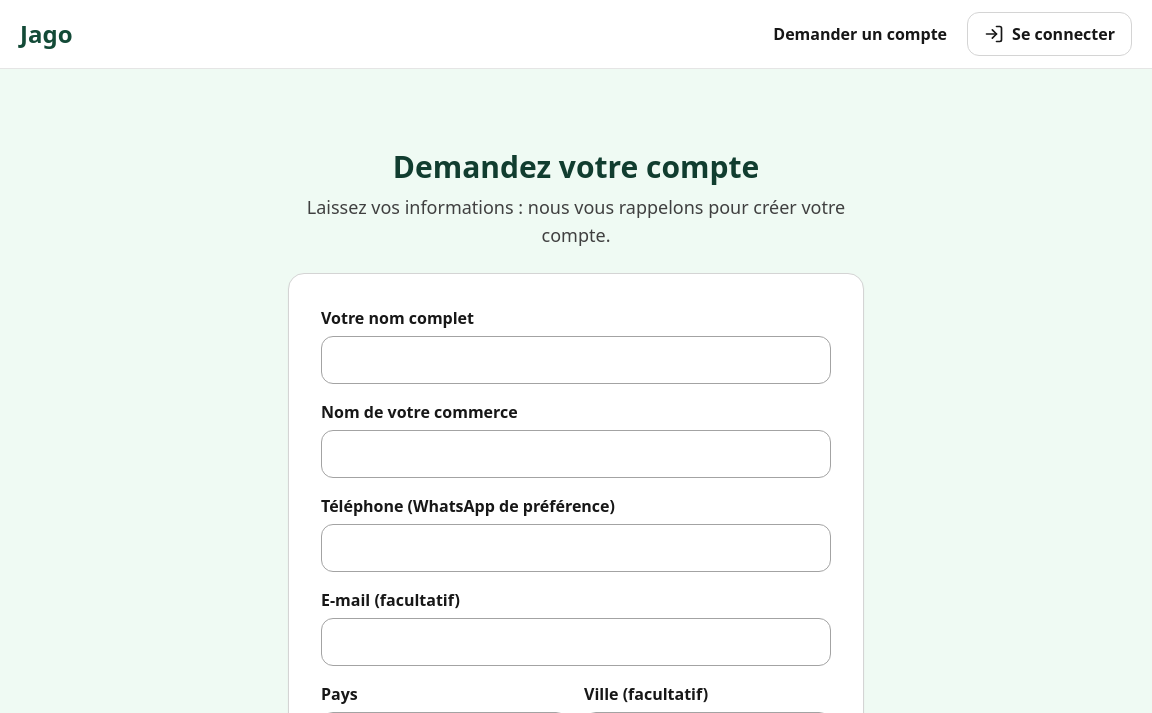
page d’accueil › envoie la demande (sans jeton) avec le champ piège vide, puis remercie
(page scrolled)
In the field labelled "Votre nom complet": (576, 360) [321,336,831,384], type "Awa Traoré"
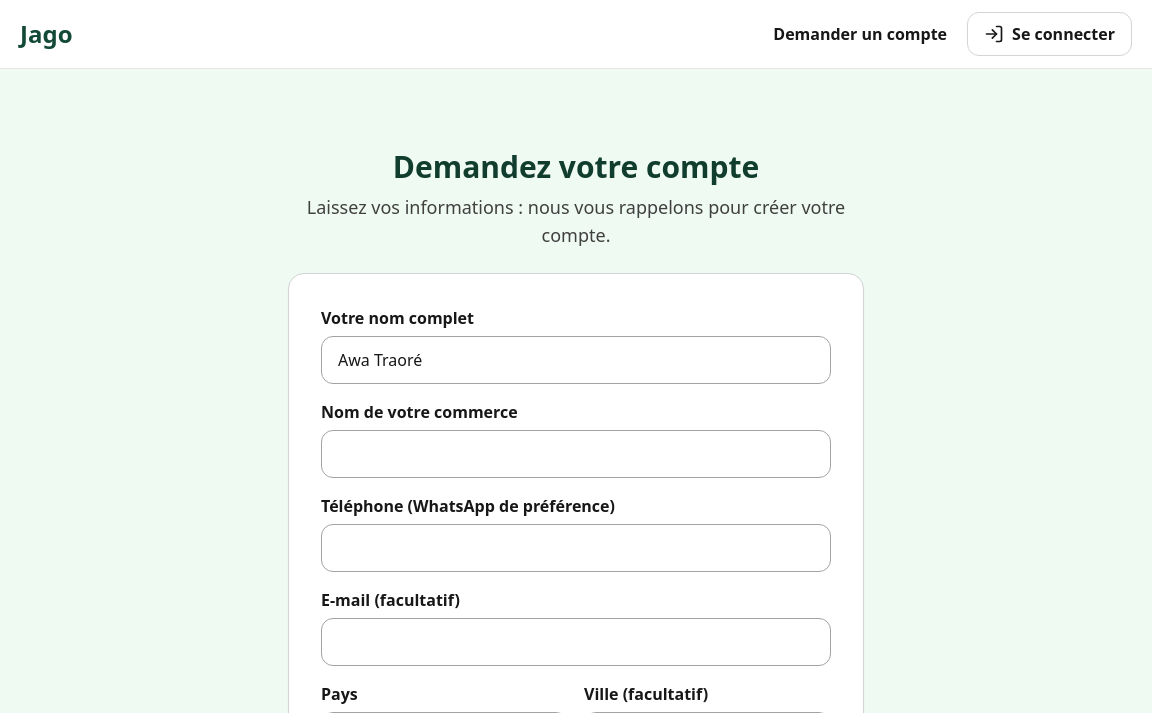
In the field labelled "Nom de votre commerce": (576, 454) [321,430,831,478], type "Boutique Awa"
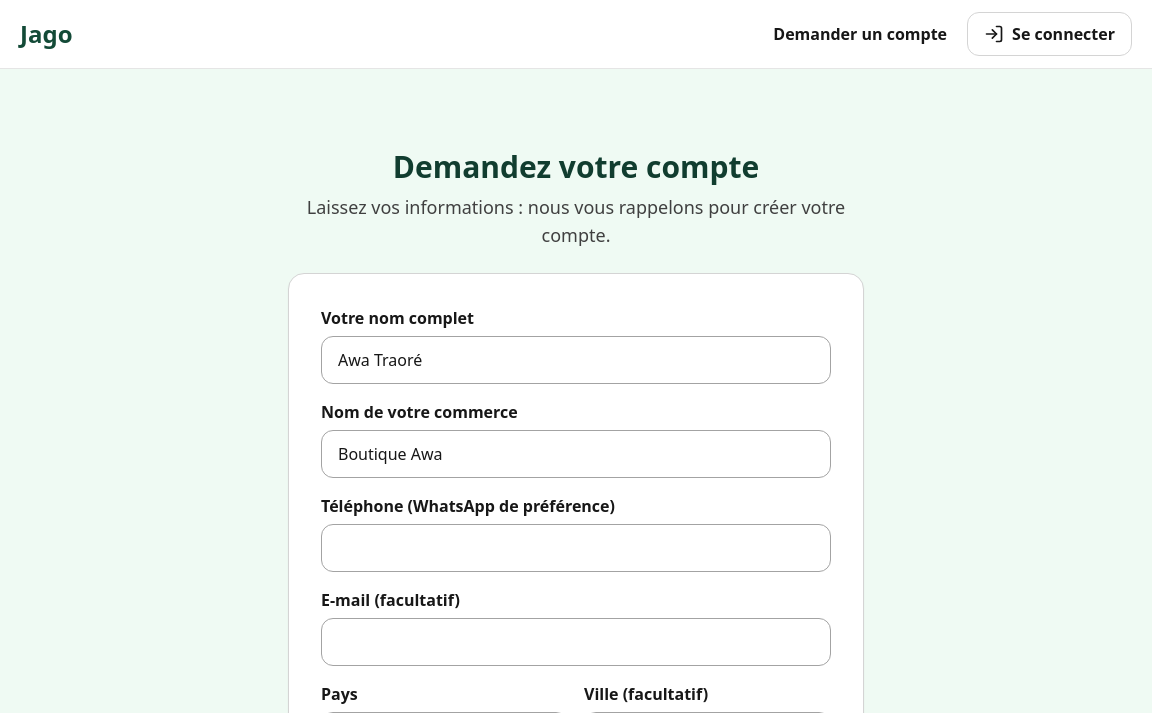
In the field labelled "Téléphone (WhatsApp de préférence)": (576, 548) [321,524,831,572], type "70 12 34 56"
(page scrolled)
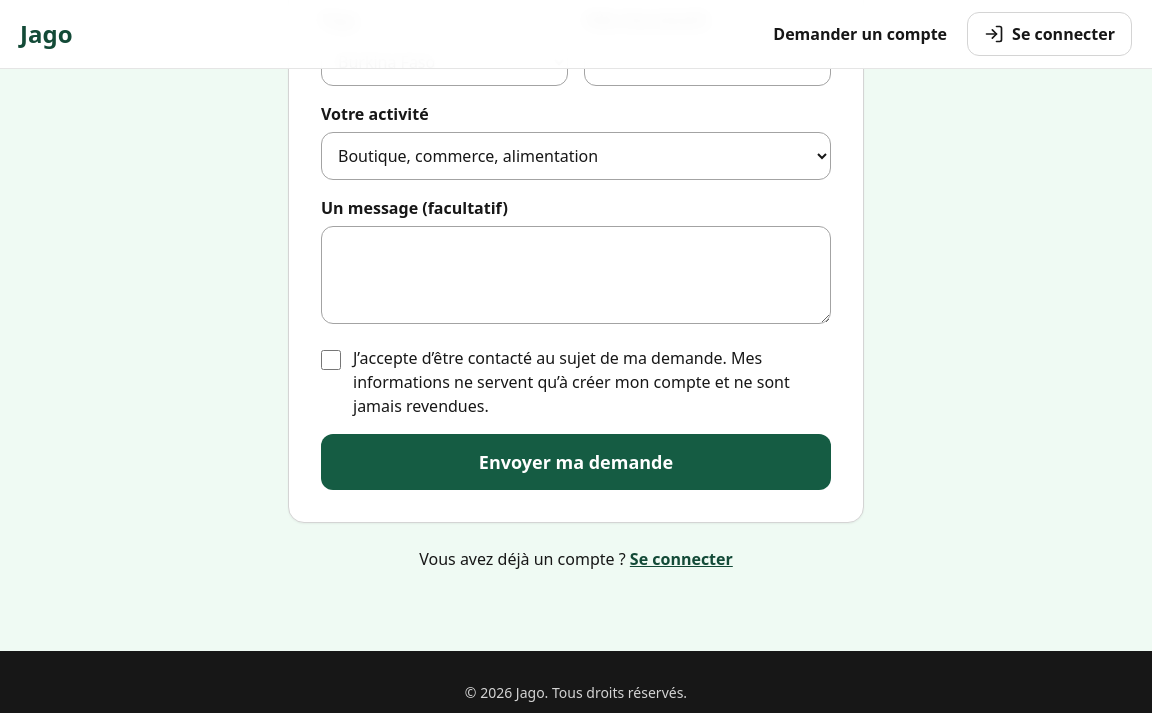
Click the checkbox labelled "J’accepte d’être contacté": (331, 360) [321,350,341,370]
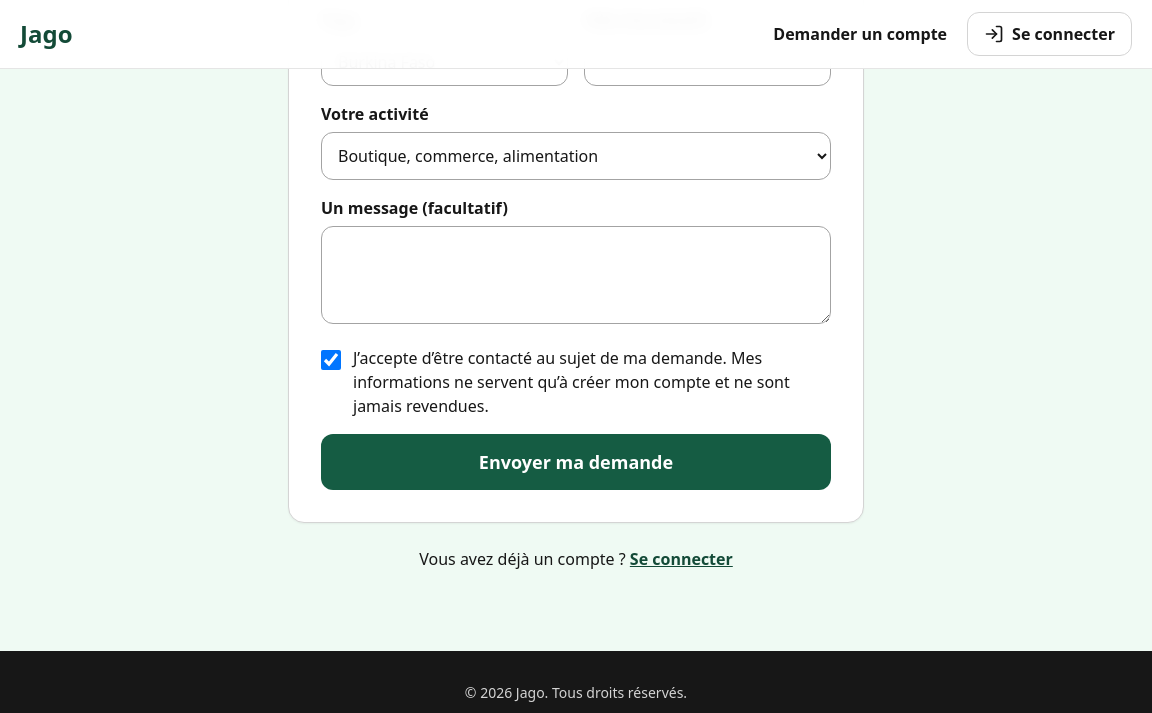
Click the button "Envoyer ma demande": (576, 462) [321,434,831,490]
(page scrolled)
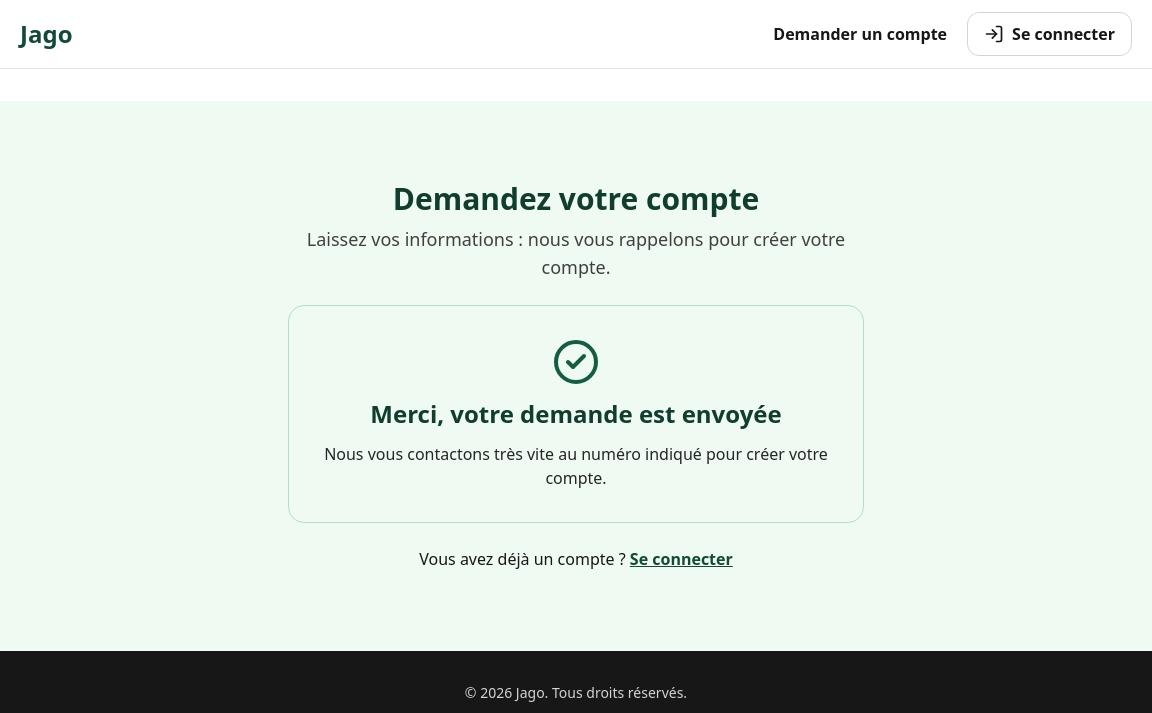
Now the heading "Merci, votre demande est envoyée" is shown, box [370,398,782,430]
